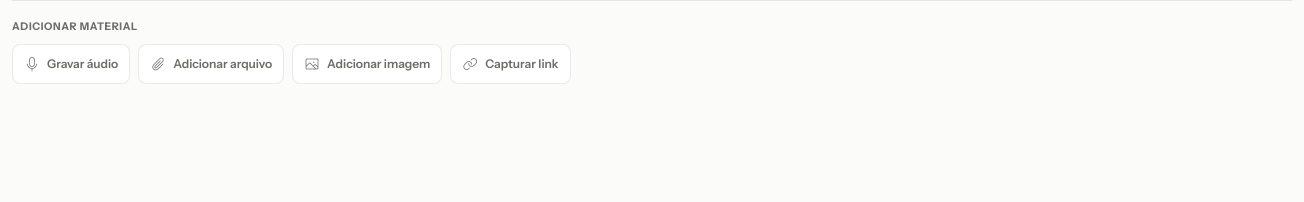
Test case: StudioMaterialComposer › validates public HTTP(S) links and restores focus when link mode closes
This screenshot has width=1304, height=202.
Click the button "Capturar link" at (510, 64), box [450,44,570,84]
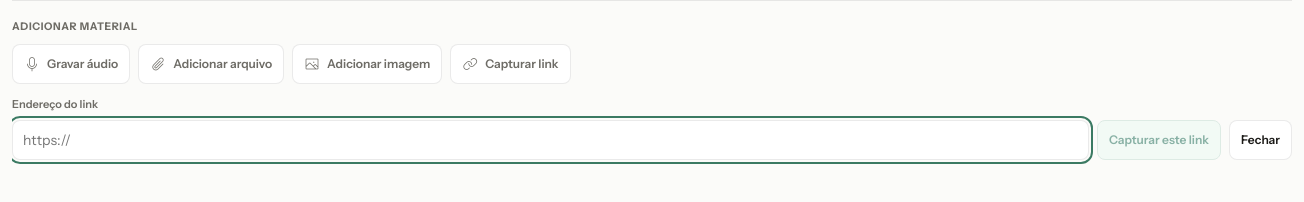
Click the button with aria-label "Fechar captura de link" at (1260, 140), box [1229,120,1292,160]
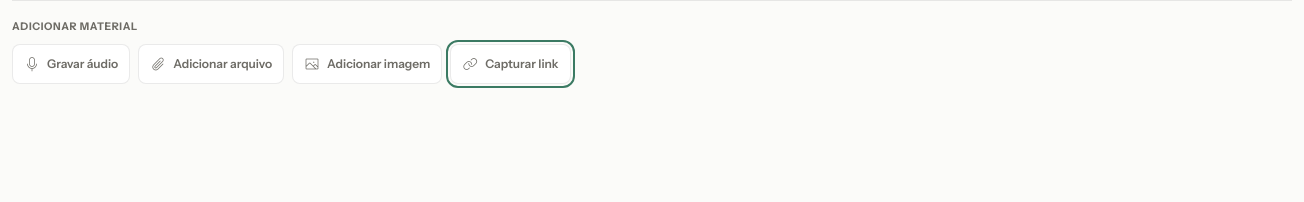
Click the button "Capturar link" at (510, 64), box [450,44,570,84]
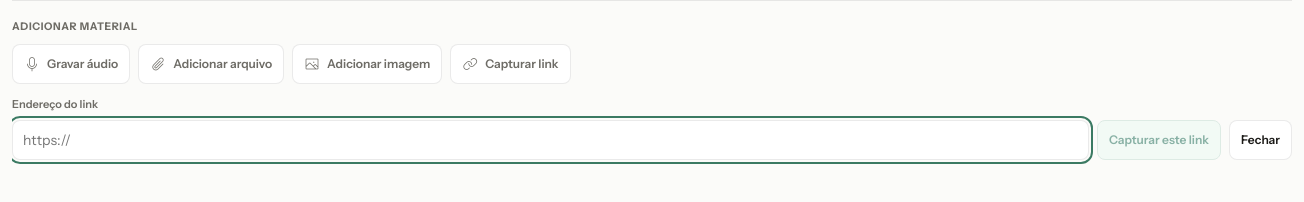
Type "http://localhost/admin" into the field labelled "Endereço do link" at (551, 140), box [12,120,1089,160]
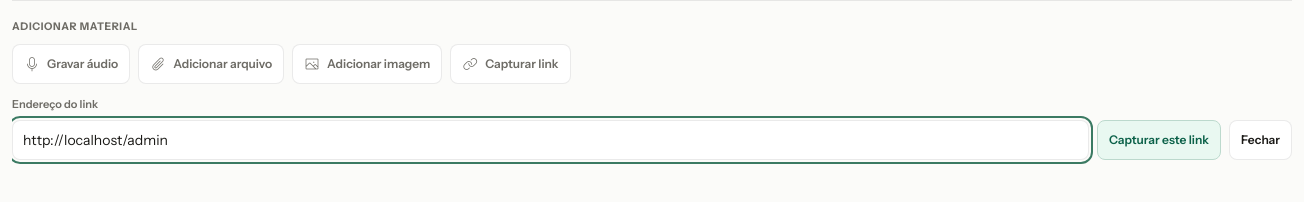
Click the button "Capturar este link" at (1159, 140), box [1097,120,1221,160]
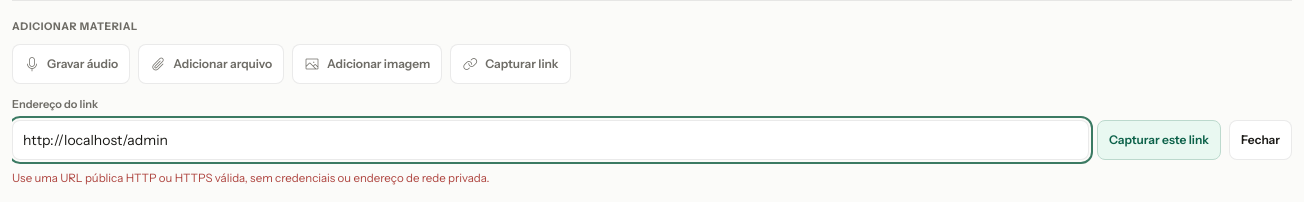
Expected: the message shows "URL pública HTTP ou HTTPS", [12,171,490,185]
